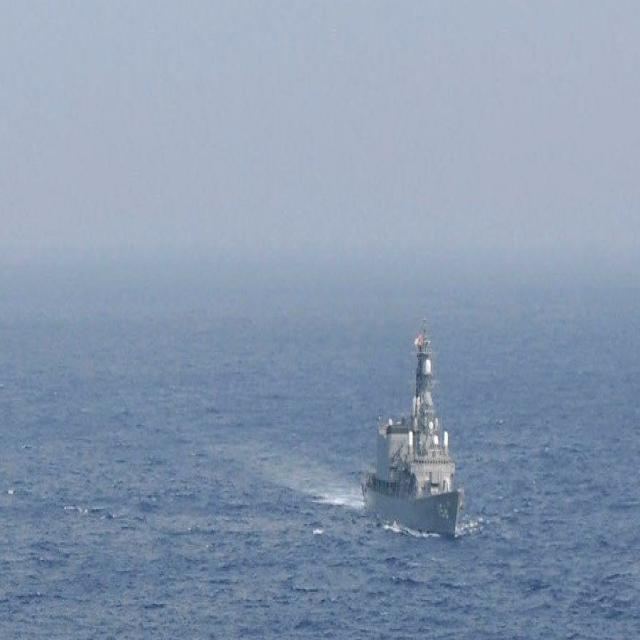navalvessels: (355, 315, 465, 552)
